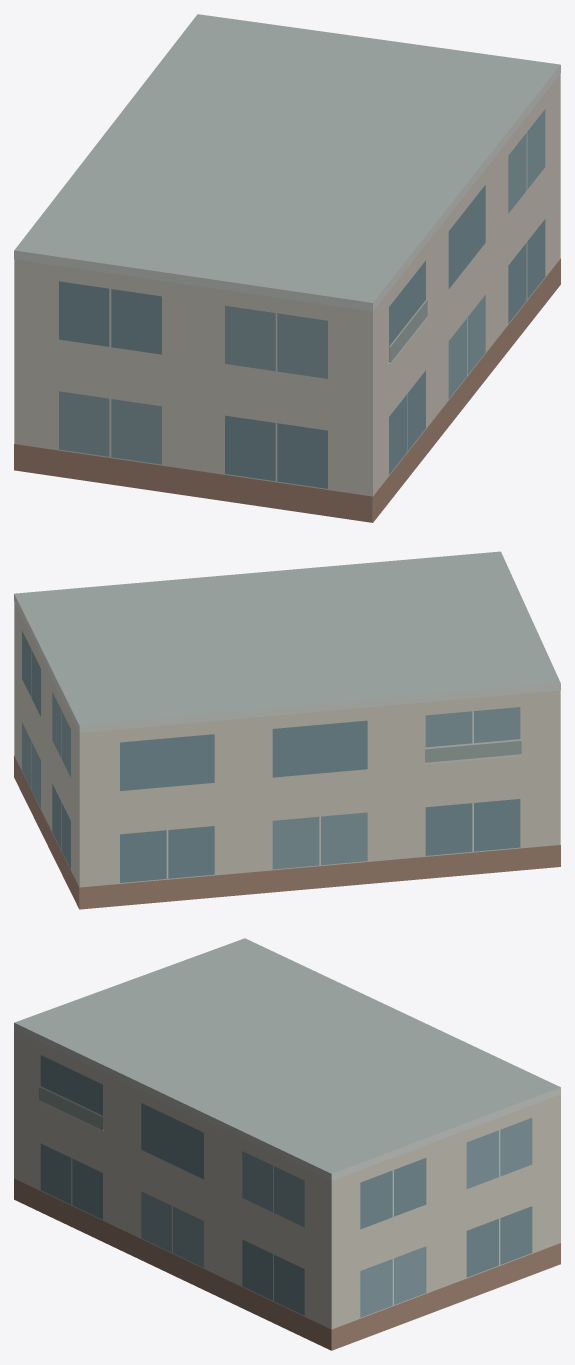
File: survey-upis-33014448.glb
The picture shows the model from 3 angles, top to bottom: view 1: azimuth 30°, elevation 25°; view 2: azimuth 150°, elevation 25°; view 3: azimuth 270°, elevation 25°; orthographic projection. The views are drawn at different scales.
Parts seen in each view (by area): view 1: survey-upis-33014448.tmp; view 2: survey-upis-33014448.tmp; view 3: survey-upis-33014448.tmp.
Part boxes in pixels (x1,y1,x2,y2): survey-upis-33014448.tmp: (14,14,560,522); survey-upis-33014448.tmp: (14,551,560,909); survey-upis-33014448.tmp: (14,938,560,1350).
Size of the model in its own units: 17.44 by 6.1 by 17.1.
